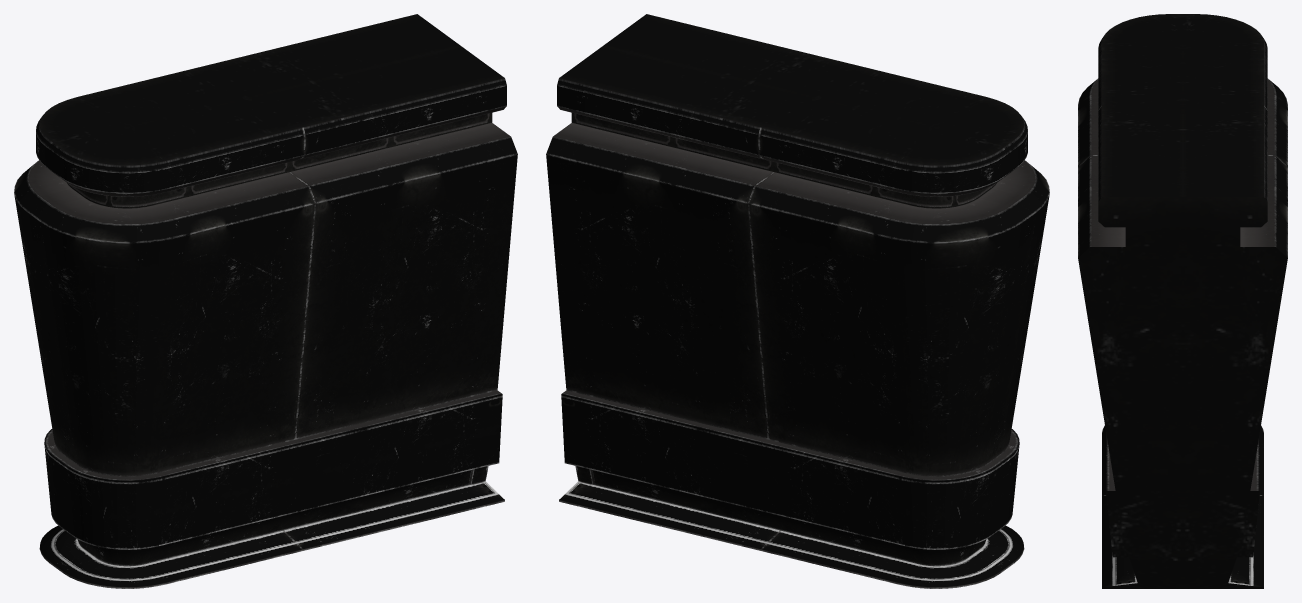
File: SM_Wall_Corner_E.FBX
3 renders of one model, left to right at view 1: azimuth 30°, elevation 25°; view 2: azimuth 150°, elevation 25°; view 3: azimuth 270°, elevation 25°, orthographic. The views are drawn at different scales.
Parts seen in each view (by area): view 1: SM_Wall_Corner_E; view 2: SM_Wall_Corner_E; view 3: SM_Wall_Corner_E.
Part boxes in pixels (left/top/right/bottom): SM_Wall_Corner_E: left=14, top=14, right=517, bottom=588; SM_Wall_Corner_E: left=546, top=14, right=1049, bottom=588; SM_Wall_Corner_E: left=1078, top=14, right=1287, bottom=588.
Size of the model in its own units: 422 by 400 by 194.
1 material, 1 textured.
